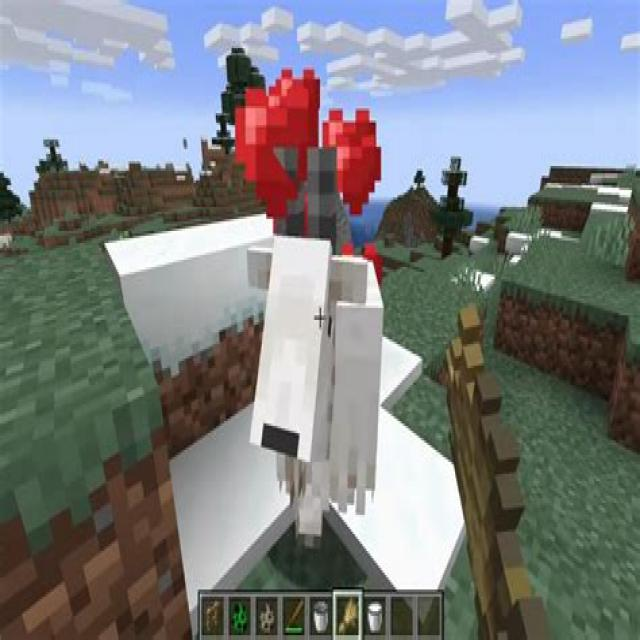Goat: (237, 149, 394, 558)
